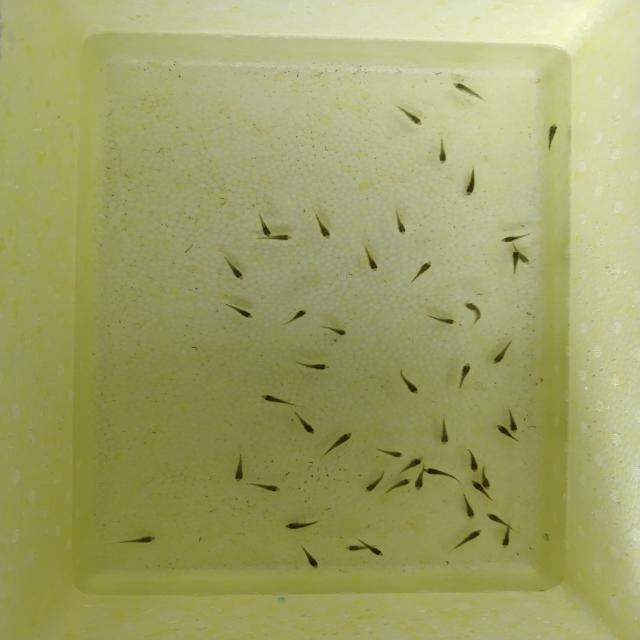fingerling: (396, 104, 432, 131), (446, 78, 483, 97), (253, 477, 285, 498), (312, 219, 337, 244), (432, 140, 452, 170), (461, 172, 481, 202), (332, 428, 362, 448), (398, 374, 424, 397), (393, 207, 409, 242), (256, 389, 288, 406), (230, 304, 260, 322), (283, 306, 313, 324), (358, 544, 394, 559), (423, 466, 457, 481), (459, 526, 485, 545), (492, 344, 512, 368), (304, 550, 324, 574), (296, 418, 321, 437), (414, 258, 435, 280), (278, 518, 316, 530), (296, 361, 340, 371), (484, 509, 506, 529), (544, 121, 560, 148), (232, 457, 248, 484), (460, 454, 484, 472), (339, 539, 364, 556), (130, 532, 160, 546), (495, 234, 529, 246), (402, 454, 426, 471), (272, 230, 297, 246), (366, 471, 382, 496), (225, 264, 246, 283), (320, 325, 352, 337), (255, 217, 275, 236), (460, 302, 487, 316), (459, 497, 476, 519), (496, 531, 516, 549), (435, 426, 452, 446), (376, 449, 408, 459), (410, 476, 430, 492), (494, 422, 515, 437), (366, 248, 378, 274), (457, 360, 474, 378), (479, 474, 497, 491), (392, 475, 412, 490), (504, 415, 522, 431), (431, 316, 459, 326), (509, 248, 522, 267), (471, 478, 484, 496), (520, 254, 530, 264)
